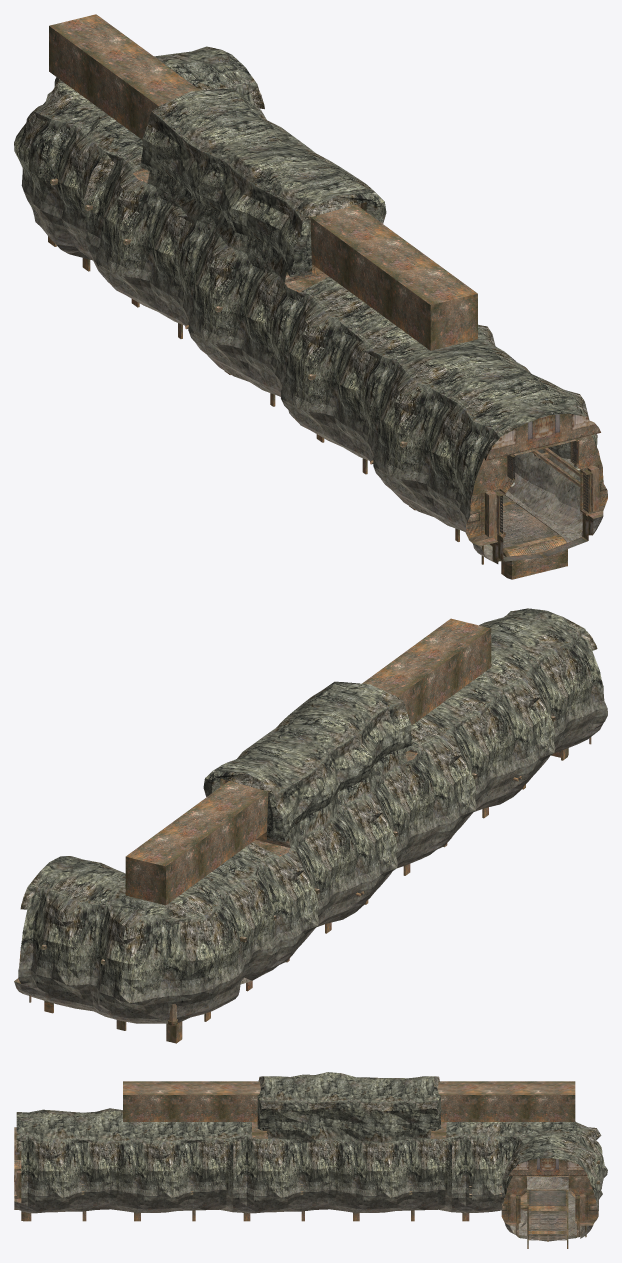
The model's file is poi_all_bunker_allum_mine_r46_hall46_mesh_r46.fbx.
3 renders of one model, top to bottom at view 1: azimuth 30°, elevation 25°; view 2: azimuth 150°, elevation 25°; view 3: azimuth 270°, elevation 25°, orthographic. The views are drawn at different scales.
Parts seen in each view (by area): view 1: mesh_node; view 2: mesh_node; view 3: mesh_node.
Boxes of the visible parts, x1,y1,x2,y2 form: mesh_node: [14, 14, 607, 579]; mesh_node: [14, 608, 607, 1043]; mesh_node: [14, 1072, 607, 1248].
Size of the model in its own units: 11.03 by 10.82 by 43.42.
